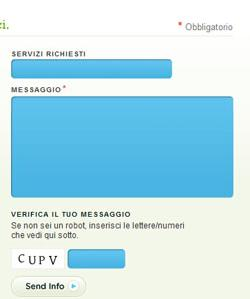button: (10, 275, 87, 299)
field: (9, 95, 235, 199), (9, 58, 175, 80), (67, 247, 128, 270)
